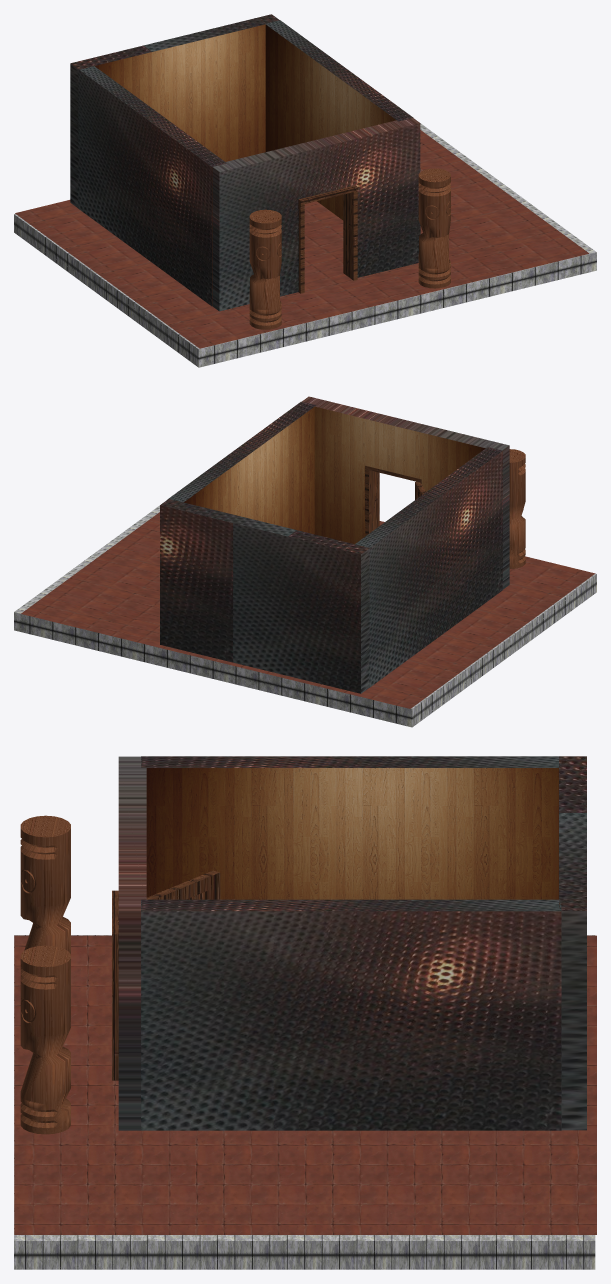
3 renders of one model, top to bottom at view 1: azimuth 30°, elevation 25°; view 2: azimuth 150°, elevation 25°; view 3: azimuth 270°, elevation 25°, orthographic. The views are drawn at different scales.
Visible parts, largest first — view 1: Plane001, Line001, Box018, Box016, Box014, Box017, Cylinder002, Cylinder001, PivotDoor001; view 2: Box016, Box018, Plane001, Line001, Box014, Box017, Cylinder001, PivotDoor001; view 3: Box017, Plane001, Box018, Box014, Box016, Line001, Cylinder002, Cylinder001, PivotDoor001.
Boxes of the visible parts, left/top/right/bottom form: Plane001: left=15, top=130, right=588, bottom=348; Line001: left=212, top=118, right=420, bottom=311; Box018: left=78, top=66, right=226, bottom=306; Box016: left=70, top=14, right=279, bottom=207; Box014: left=14, top=118, right=596, bottom=367; Box017: left=265, top=20, right=413, bottom=220; Cylinder002: left=418, top=168, right=450, bottom=288; Cylinder001: left=249, top=209, right=281, bottom=329; PivotDoor001: left=298, top=185, right=357, bottom=293; Box016: left=160, top=499, right=369, bottom=693; Box018: left=355, top=447, right=502, bottom=687; Plane001: left=21, top=512, right=595, bottom=708; Line001: left=302, top=396, right=509, bottom=589; Box014: left=14, top=505, right=596, bottom=727; Box017: left=168, top=401, right=316, bottom=534; Cylinder001: left=509, top=449, right=525, bottom=568; PivotDoor001: left=365, top=465, right=425, bottom=536; Box017: left=141, top=899, right=561, bottom=1130; Plane001: left=14, top=935, right=596, bottom=1234; Box018: left=141, top=756, right=561, bottom=899; Box014: left=14, top=935, right=595, bottom=1269; Box016: left=559, top=756, right=586, bottom=1130; Line001: left=118, top=756, right=146, bottom=1130; Cylinder002: left=20, top=945, right=70, bottom=1134; Cylinder001: left=20, top=815, right=70, bottom=976; PivotDoor001: left=112, top=870, right=220, bottom=1080.
Bounding box in the file's own units: 155 × 58.61 × 125.
Materials: 6 (6 with a texture image).
